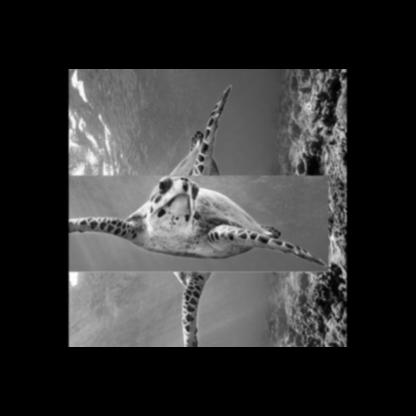turtle: (94, 127, 282, 316)
